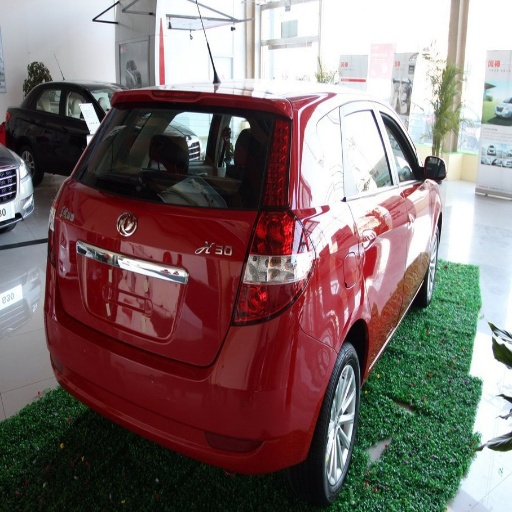back_bumper: (55, 303, 336, 474)
back_left_light: (50, 201, 74, 274)
back_right_door: (319, 107, 400, 315)
tailgate: (89, 205, 254, 362)
trunk: (60, 185, 195, 348)
